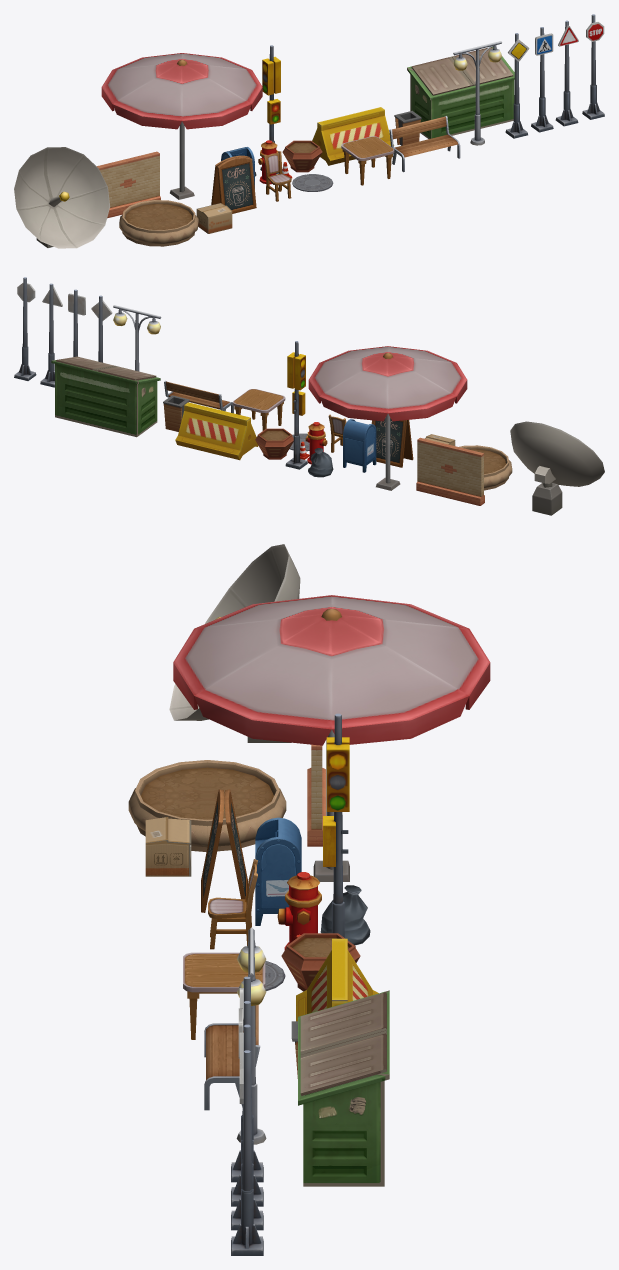
The model's file is Resort Town Props.FBX.
3 views of the same model, one above another, from view 1: azimuth 30°, elevation 25°; view 2: azimuth 150°, elevation 25°; view 3: azimuth 270°, elevation 25° (orthographic). The views are drawn at different scales.
Visible parts, largest first — view 1: Umbrella, Antenna, Trash_can_large, Clumb_1, Fence_2, Block, Chalk_board, Bench, Table, Traffic_Light, Lighter, Sign_2 (+10 smaller); view 2: Umbrella, Trash_can_large, Antenna, Fence_2, Block, Traffic_Light, Mailbox, Chalk_board, Table, Clumb_1, Bench, Clumb_2 (+9 smaller); view 3: Umbrella, Trash_can_large, Clumb_1, Antenna, Traffic_Light, Mailbox, Block, Table, Sign_3, Box, Bench, Chalk_board (+9 smaller).
Part boxes in pixels (x1,y1,x2,y2): Umbrella: (101,53,262,199); Antenna: (14,147,110,248); Trash_can_large: (407,47,514,138); Clumb_1: (119,200,198,246); Fence_2: (97,151,160,218); Block: (312,107,393,165); Chalk_board: (211,155,256,213); Bench: (389,116,460,172); Table: (341,136,394,185); Traffic_Light: (260,45,282,173); Lighter: (453,41,501,145); Sign_2: (531,27,553,132); Umbrella: (308,346,467,490); Trash_can_large: (51,356,160,437); Antenna: (510,421,604,515); Fence_2: (416,437,484,505); Block: (175,402,258,460); Traffic_Light: (285,341,307,469); Mailbox: (343,419,376,472); Chalk_board: (371,418,413,467); Table: (233,389,285,430); Clumb_1: (459,445,512,490); Bench: (164,380,233,413); Clumb_2: (255,428,293,459); Umbrella: (173,595,490,881); Trash_can_large: (298,990,389,1186); Clumb_1: (128,760,286,851); Antenna: (169,544,300,742); Traffic_Light: (323,713,349,937); Mailbox: (255,817,301,925); Block: (296,938,378,1021); Table: (183,952,265,1039); Sign_3: (231,1050,263,1255); Box: (145,817,191,876); Bench: (204,1005,260,1110); Chalk_board: (201,789,247,912).
Bounding box in the file's own units: 18.59 × 4.06 × 5.01.
